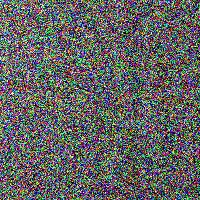inclusion: (118, 1, 173, 199)
